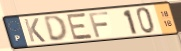0: (136, 6, 158, 35)
1: (122, 8, 139, 36)
D: (42, 14, 69, 43)
E: (66, 12, 95, 41)
F: (87, 11, 111, 39)
K: (22, 17, 47, 44)
